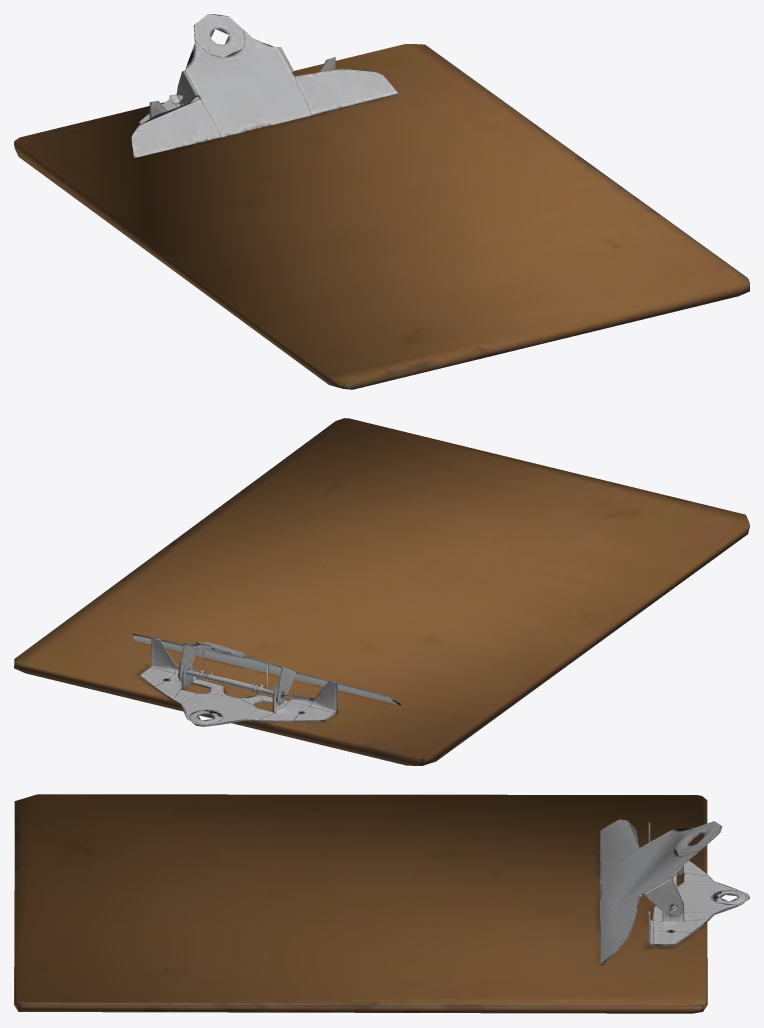
File: clipboard.glb
3 renders of one model, top to bottom at view 1: azimuth 30°, elevation 25°; view 2: azimuth 150°, elevation 25°; view 3: azimuth 270°, elevation 25°, orthographic. The views are drawn at different scales.
Visible parts, largest first — view 1: clipboard; view 2: clipboard; view 3: clipboard.
Boxes of the visible parts, x1=… form: clipboard: x1=14, y1=14, x2=749, y2=389; clipboard: x1=14, y1=418, x2=749, y2=765; clipboard: x1=14, y1=794, x2=749, y2=1013.
Size of the model in its own units: 0.2278 by 0.0417 by 0.3362.
Materials: 1 (1 with a texture image).
